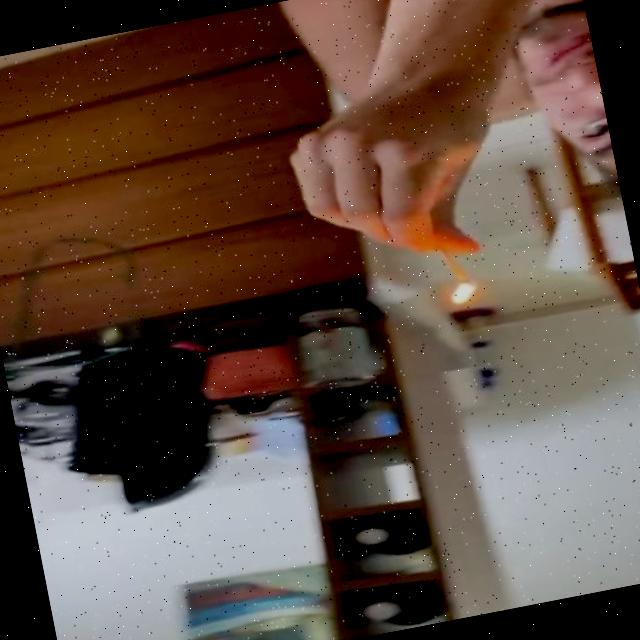fire: (435, 281, 486, 319)
